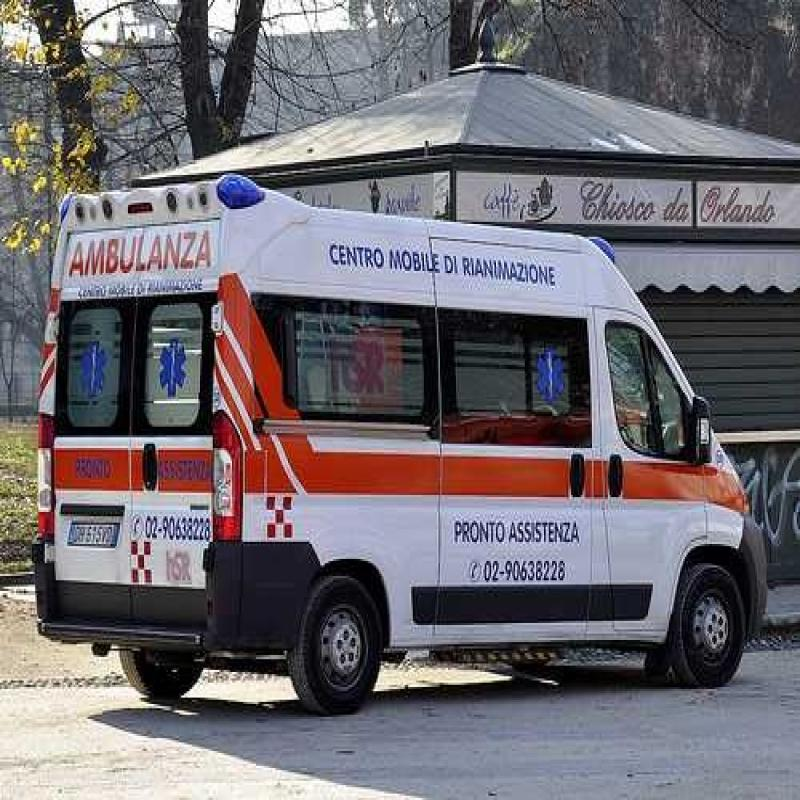AmbulanceSiren: (49, 168, 268, 233)
